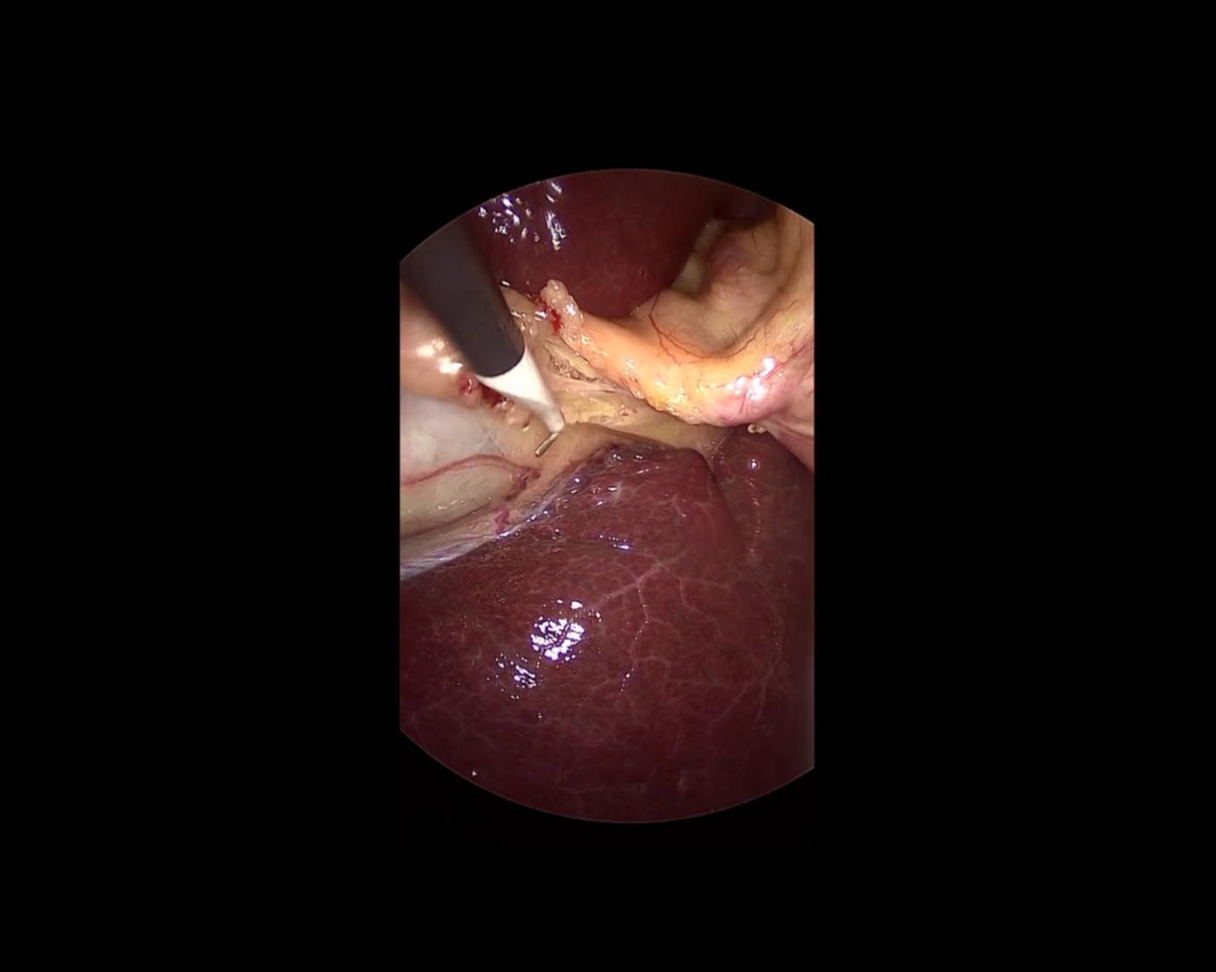Cautery: (386, 213, 575, 478)
Gallbladder: (401, 284, 598, 538)
Liver: (400, 426, 816, 822), (468, 168, 774, 319)
